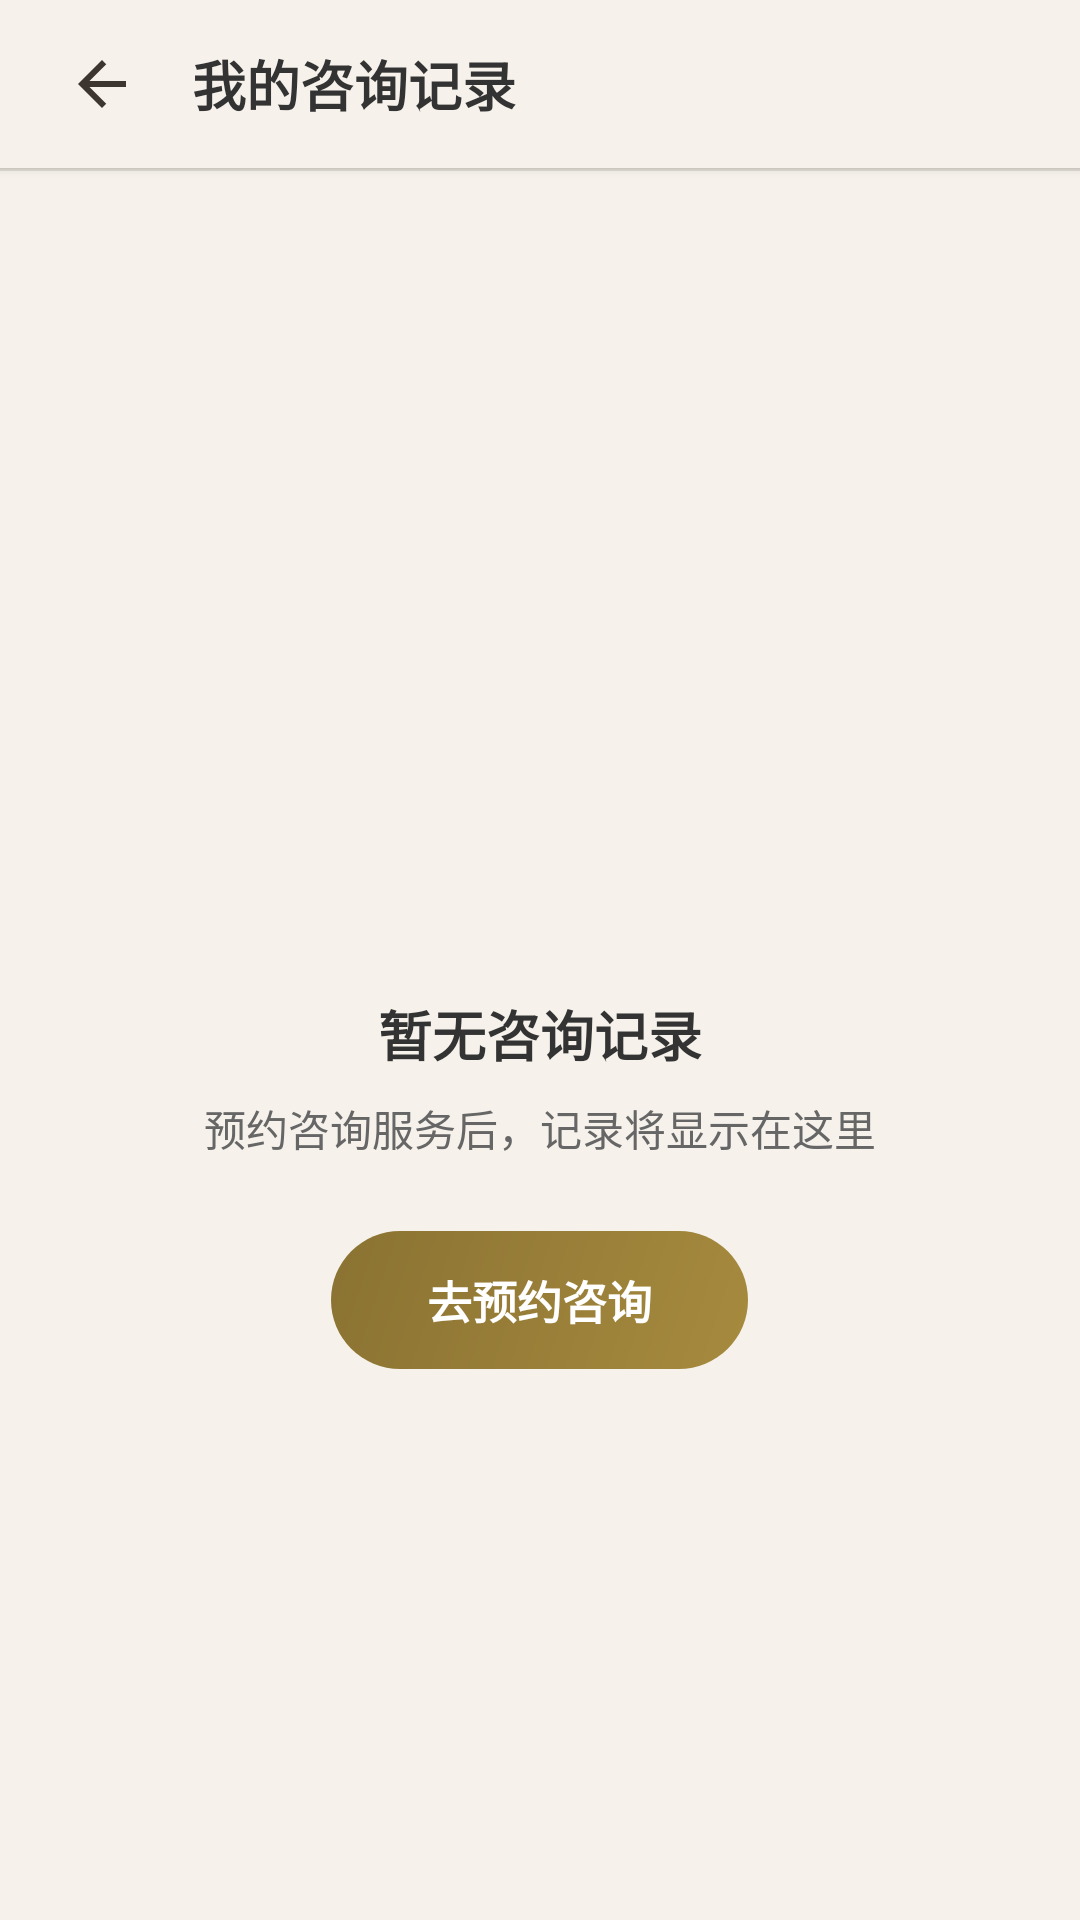

Screen size 1080w x 1920h. Icon name, then its box in pixels as (x1, y1, x2, y2):
返回: (78, 60, 126, 108)
